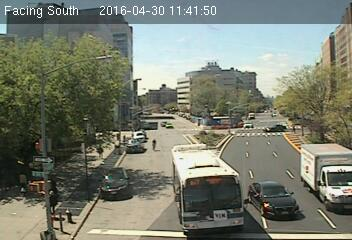neg: (292, 142, 316, 174), (113, 183, 131, 208), (253, 131, 270, 154), (50, 54, 65, 75), (272, 194, 286, 212), (193, 104, 206, 122), (108, 61, 121, 78), (256, 98, 268, 115), (151, 74, 163, 91), (148, 137, 160, 153), (142, 120, 151, 132), (229, 122, 238, 134), (162, 119, 171, 130), (210, 173, 218, 185)
pos: (12, 168, 34, 198), (43, 190, 61, 213), (92, 144, 104, 161), (289, 122, 299, 134), (121, 133, 129, 144)
